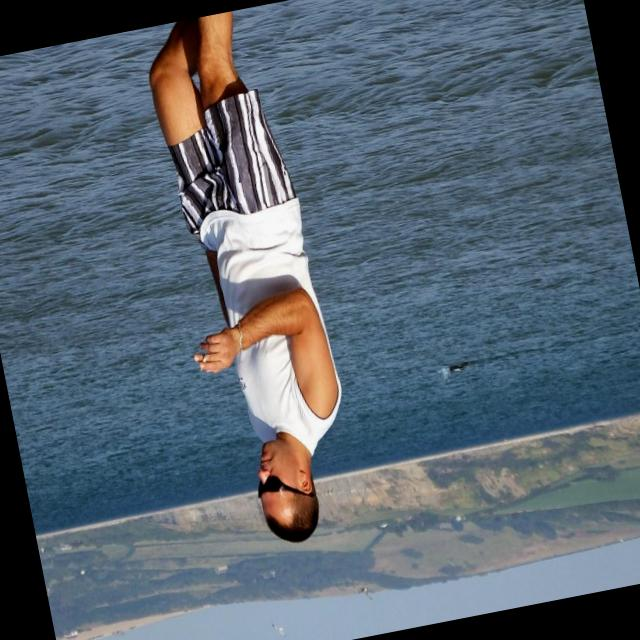smoke: (196, 351, 213, 372)
